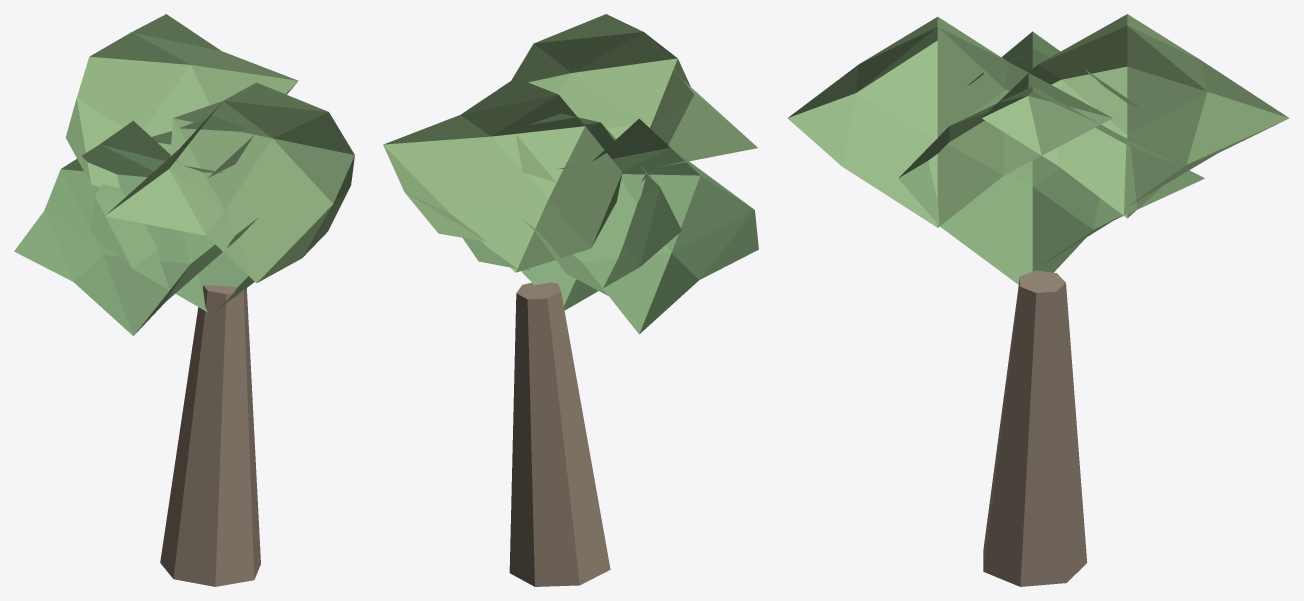
The model's file is broadleaf_v30.glb.
3 renders of one model, left to right at view 1: azimuth 30°, elevation 25°; view 2: azimuth 150°, elevation 25°; view 3: azimuth 270°, elevation 25°, orthographic. The views are drawn at different scales.
Parts seen in each view (by area): view 1: lod0; view 2: lod0; view 3: lod0.
Boxes of the visible parts, box(x1,y1,x2,y2) form: lod0: box(14, 14, 354, 586); lod0: box(383, 14, 758, 586); lod0: box(787, 14, 1289, 586).
Size of what is drawn, in the model's own units: 2.64 by 4.01 by 3.31.
